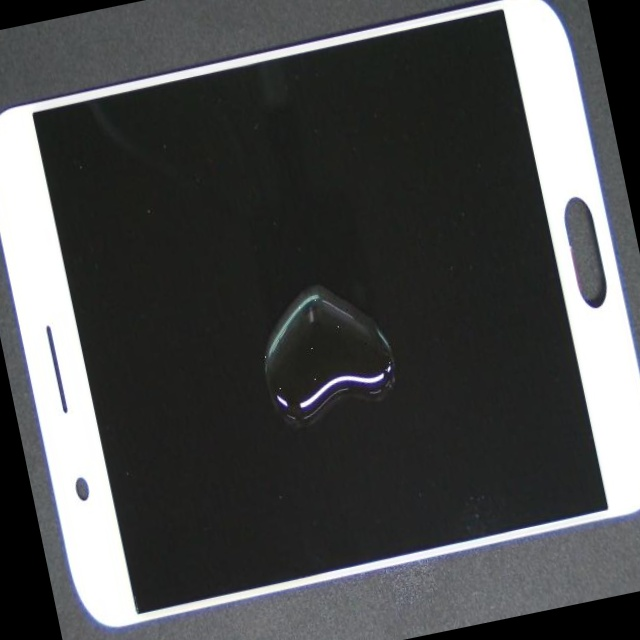oil: (97, 123, 435, 597)
